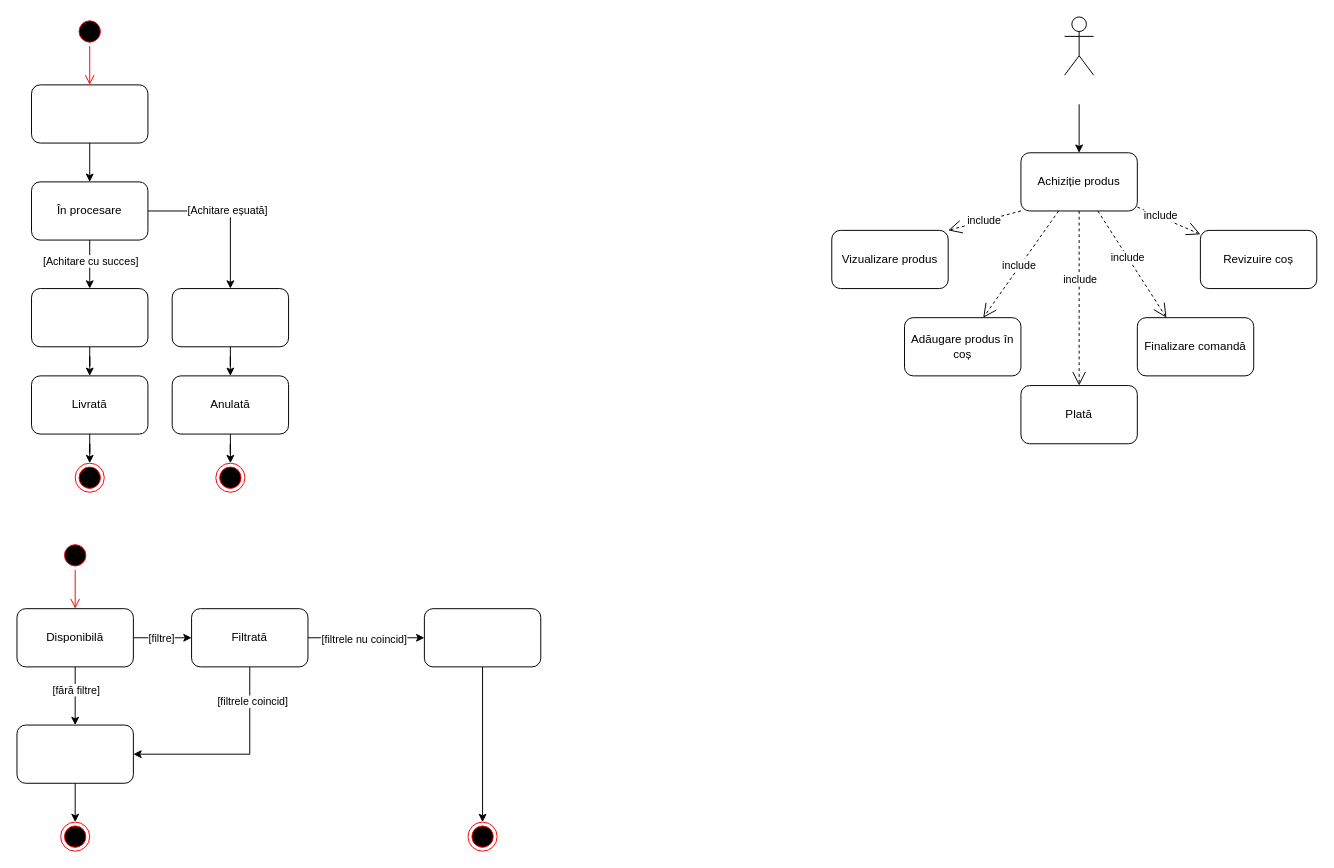
The diagram is 1334 pixels wide and 868 high, and some of its shapes have lost their labels. Here are the shapes that lost their labels. From the top down, the box of each, then its label:
(1064, 16, 1094, 75): Vizitator
(31, 84, 148, 143): Creată
(31, 288, 148, 347): Plătită
(171, 288, 289, 347): Neplătită
(423, 608, 541, 667): Neselectată
(16, 724, 133, 783): Selectată
